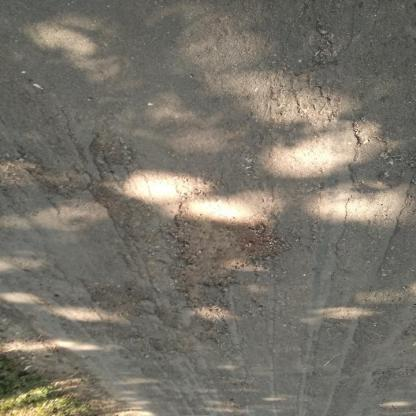pothole: (172, 187, 293, 299)
